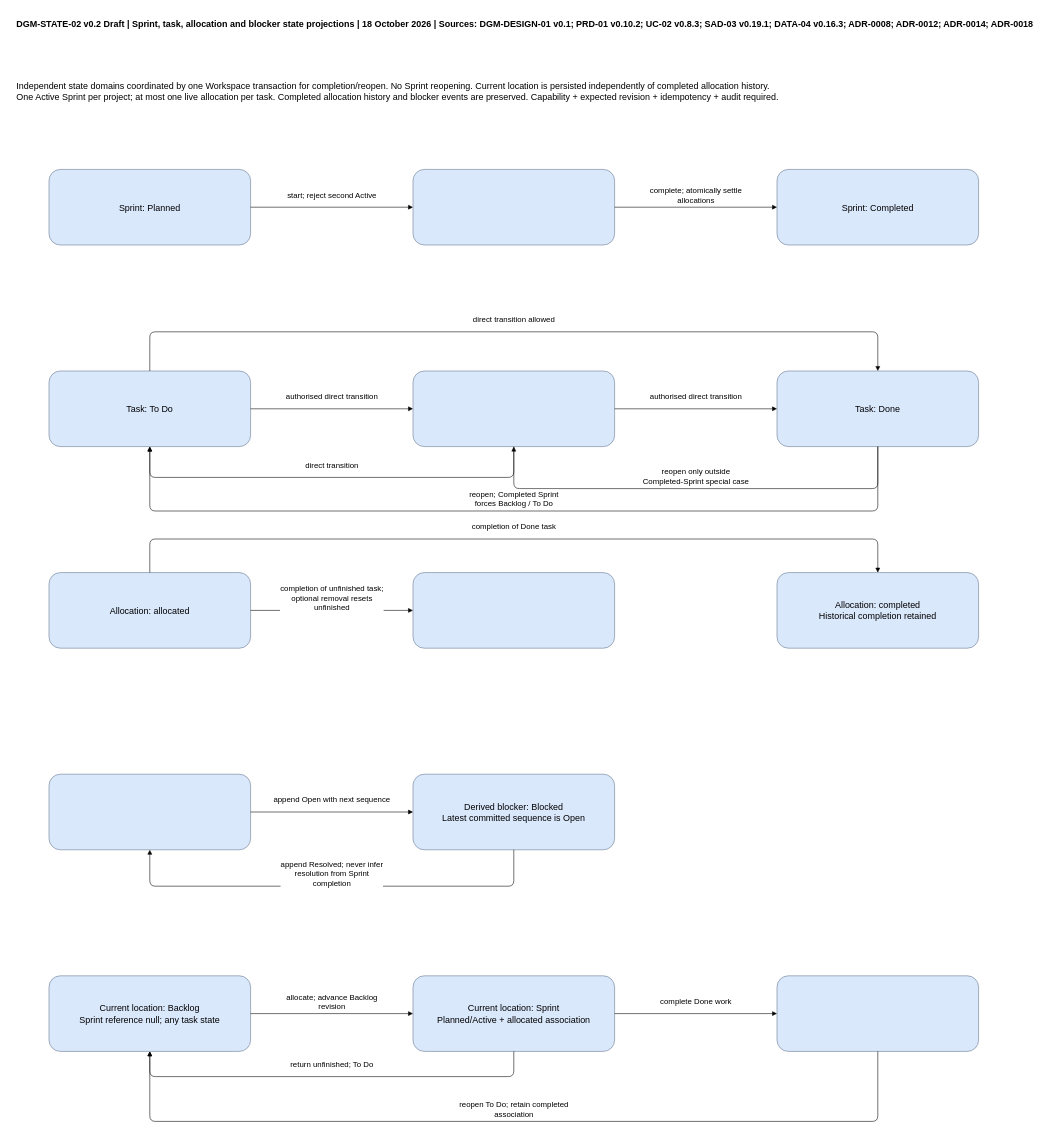
Some shapes in this 1049 by 1136 pixel diagram are drawn without their labels. The centre of each missing label's shape, as x and y in pixels:
Allocation: returned Task in Backlog / To Do: point 513,610
Current location: Completed Done + completed association: point 877,1013
Derived blocker: not Blocked No event or latest event Resolved: point 149,812
Sprint: Active: point 513,207
Task: In Progress: point 513,408
